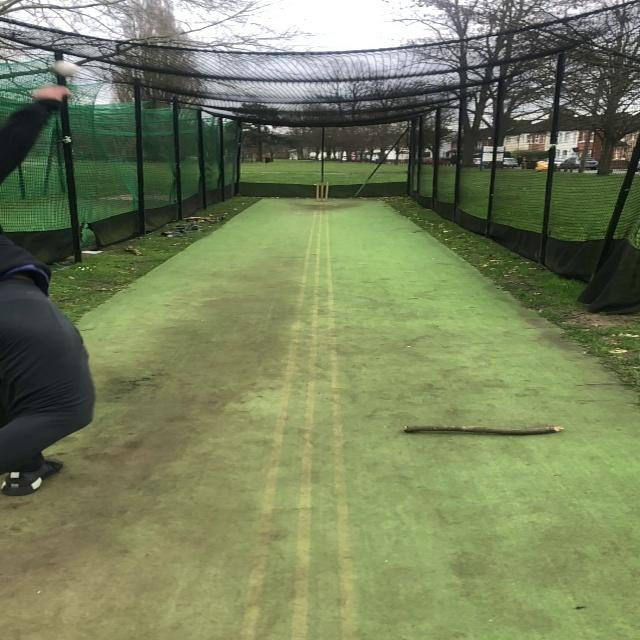ball: (51, 59, 77, 78)
